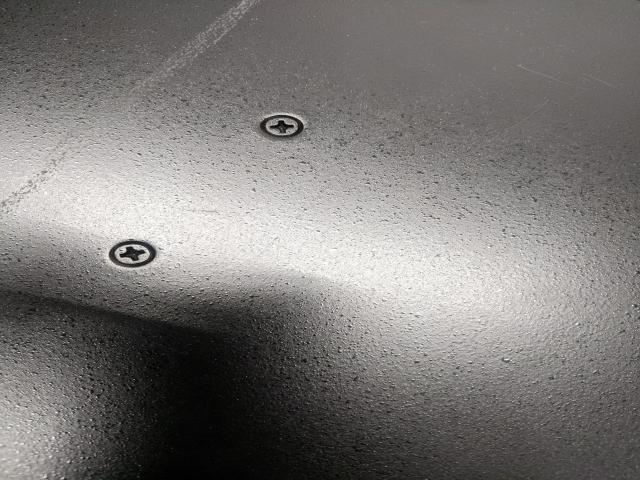CRS: (108, 241, 155, 266), (260, 115, 307, 136)
